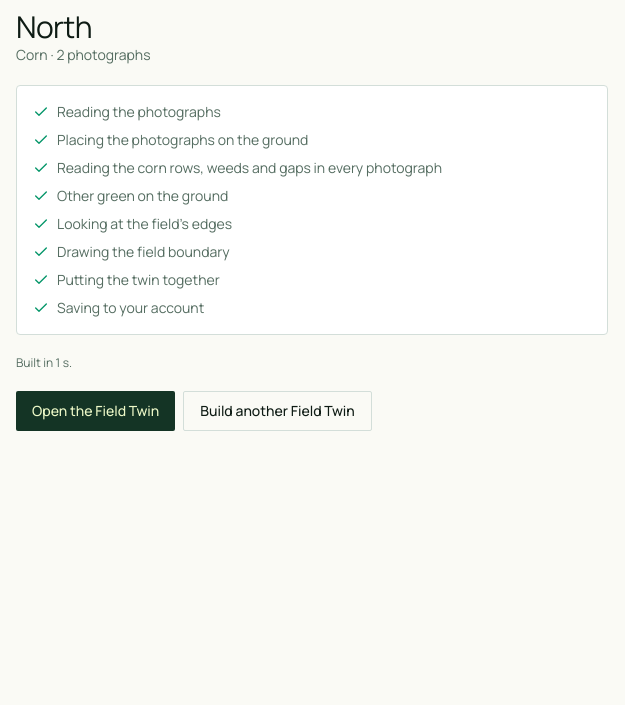
Test case: the New Field Twin page after a build › offers the twin and a second build, and the second build starts from an empty form without reloading
Expected: the button "Open the Field Twin" is shown, [16,391,175,431]
Step 1. Click the button "Build another Field Twin" → click(278, 411), box [183,391,372,431]
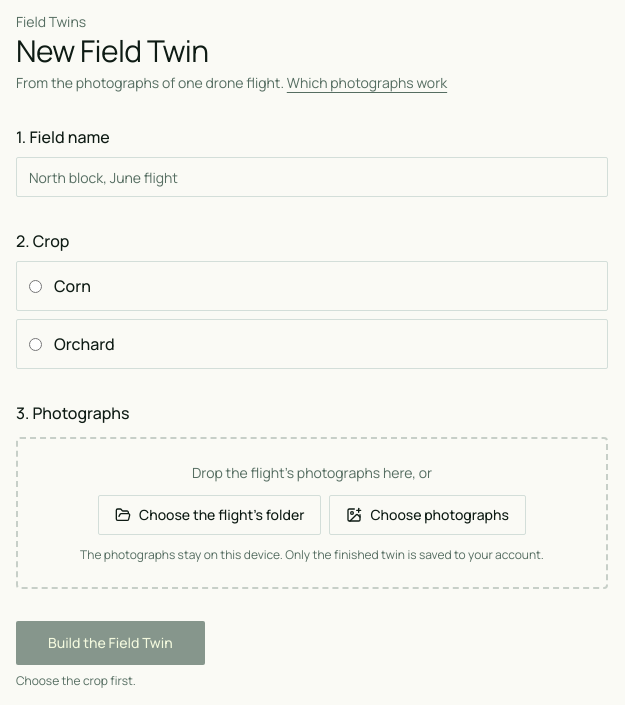
Expected: the button "Build the Field Twin" is shown, [16,621,205,665]
